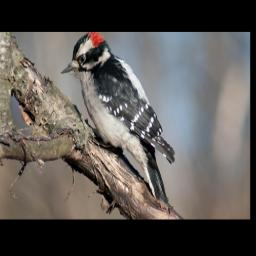Woodpecker: (57, 33, 176, 208)
